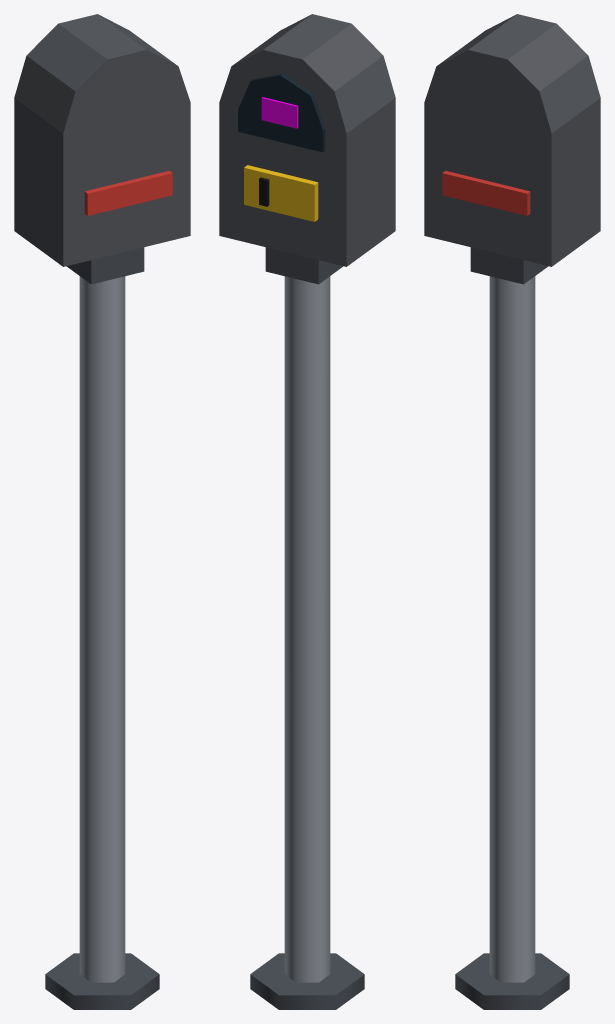
The model's file is prop_parking_meter.glb.
The picture shows the model from 3 angles, left to right: view 1: azimuth 30°, elevation 25°; view 2: azimuth 150°, elevation 25°; view 3: azimuth 330°, elevation 25°; orthographic projection.
Parts seen in each view (by area): view 1: prop_parking_meter__mesh; view 2: prop_parking_meter__mesh; view 3: prop_parking_meter__mesh.
Boxes of the visible parts, left/top/right/bottom form: prop_parking_meter__mesh: left=14, top=14, right=190, bottom=1009; prop_parking_meter__mesh: left=219, top=14, right=395, bottom=1009; prop_parking_meter__mesh: left=424, top=14, right=600, bottom=1009.
Bounding box in the file's own units: 0.18 × 1.29 × 0.144.
1 material, 1 textured.
